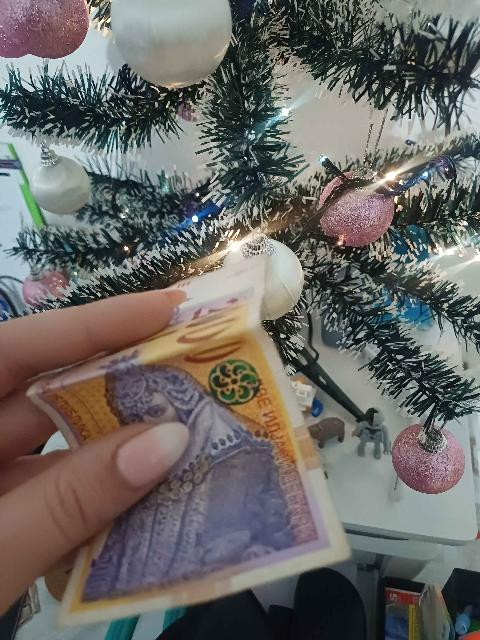note: (29, 259, 348, 623)
